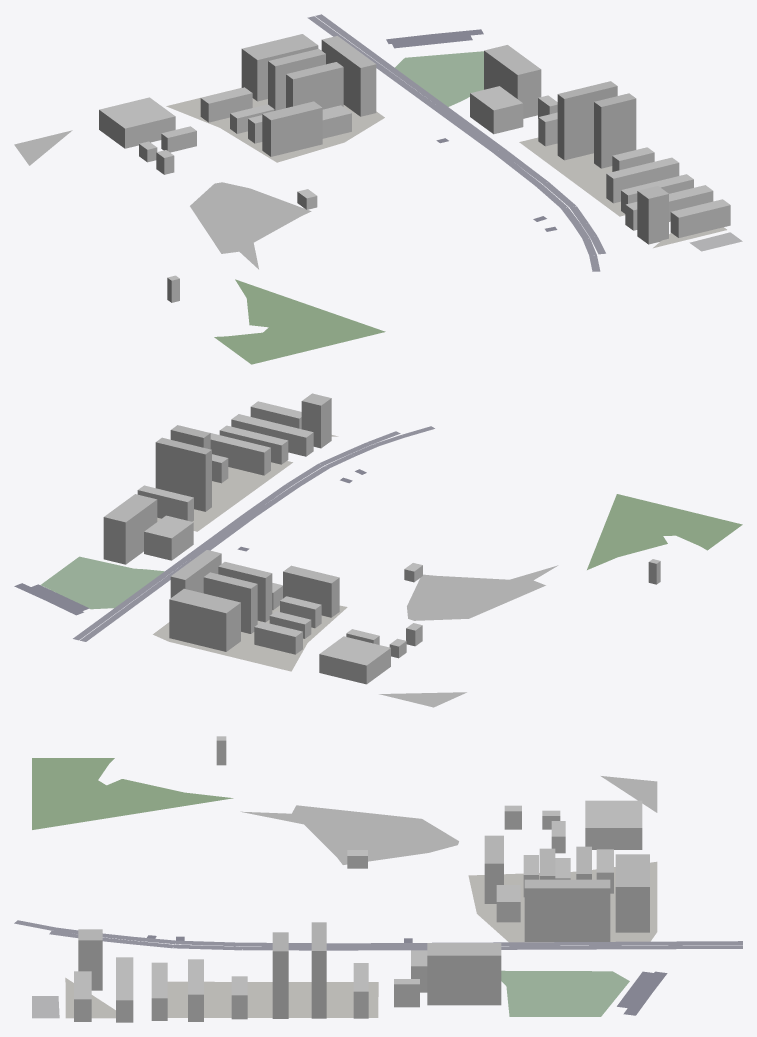
The model's file is 133_99_mid.glb.
3 renders of one model, top to bottom at view 1: azimuth 30°, elevation 25°; view 2: azimuth 150°, elevation 25°; view 3: azimuth 270°, elevation 25°, orthographic. The views are drawn at different scales.
Bounding box in the file's own units: 513 × 64.38 × 583.
